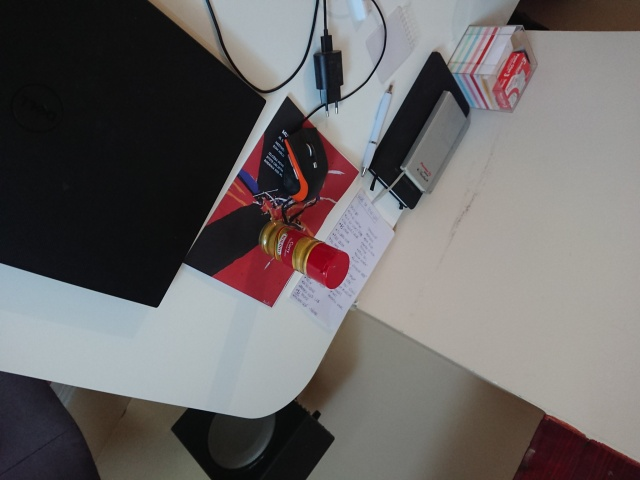Kotanyi Curry Spices Mix 70g: (256, 217, 351, 292)
